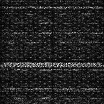lte: (1, 62, 104, 67)
